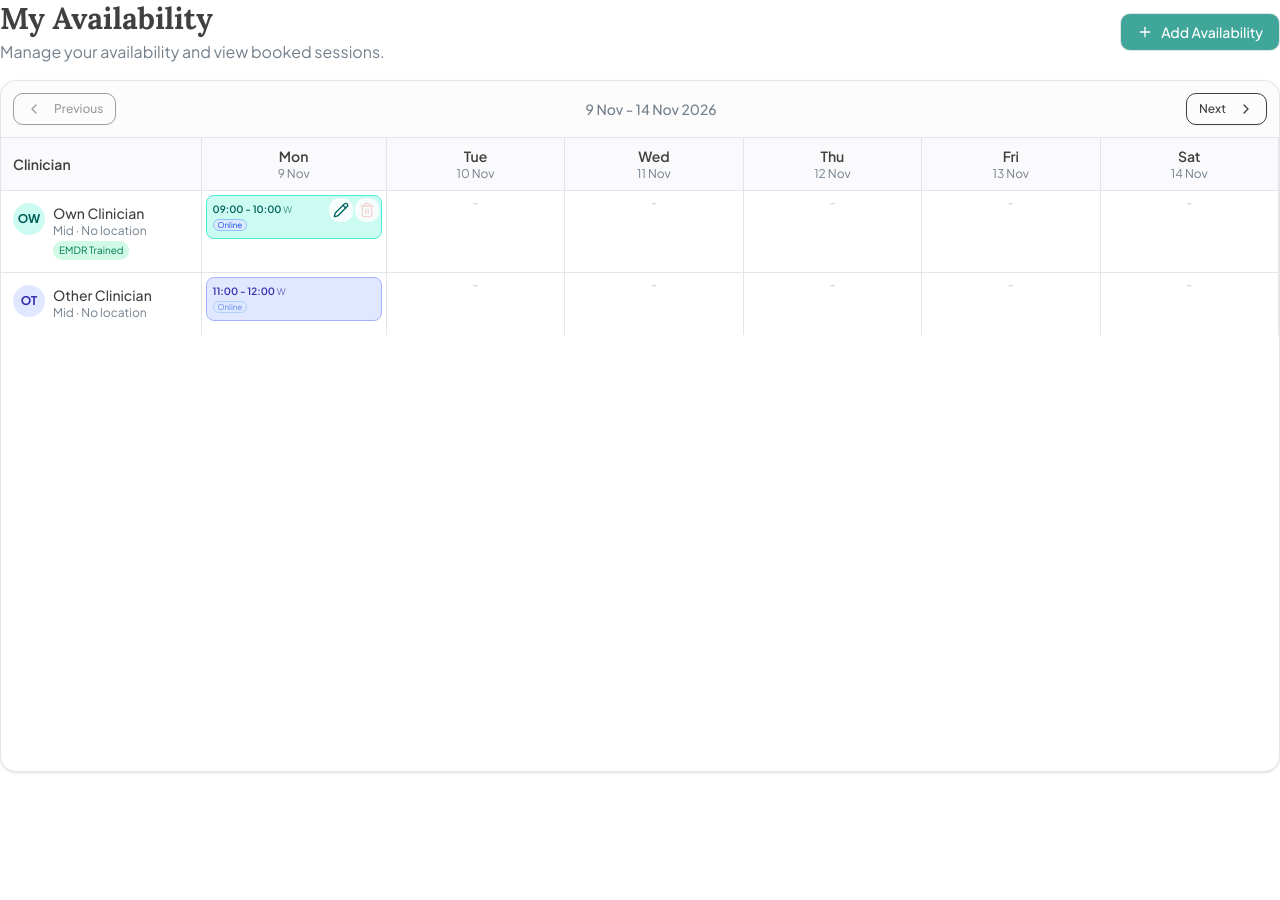
opens editing only for the clinician's own free series
Click the button with test id "button-edit-slot-own-slot" at (341, 210), box x1=329 y1=198 x2=353 y2=222
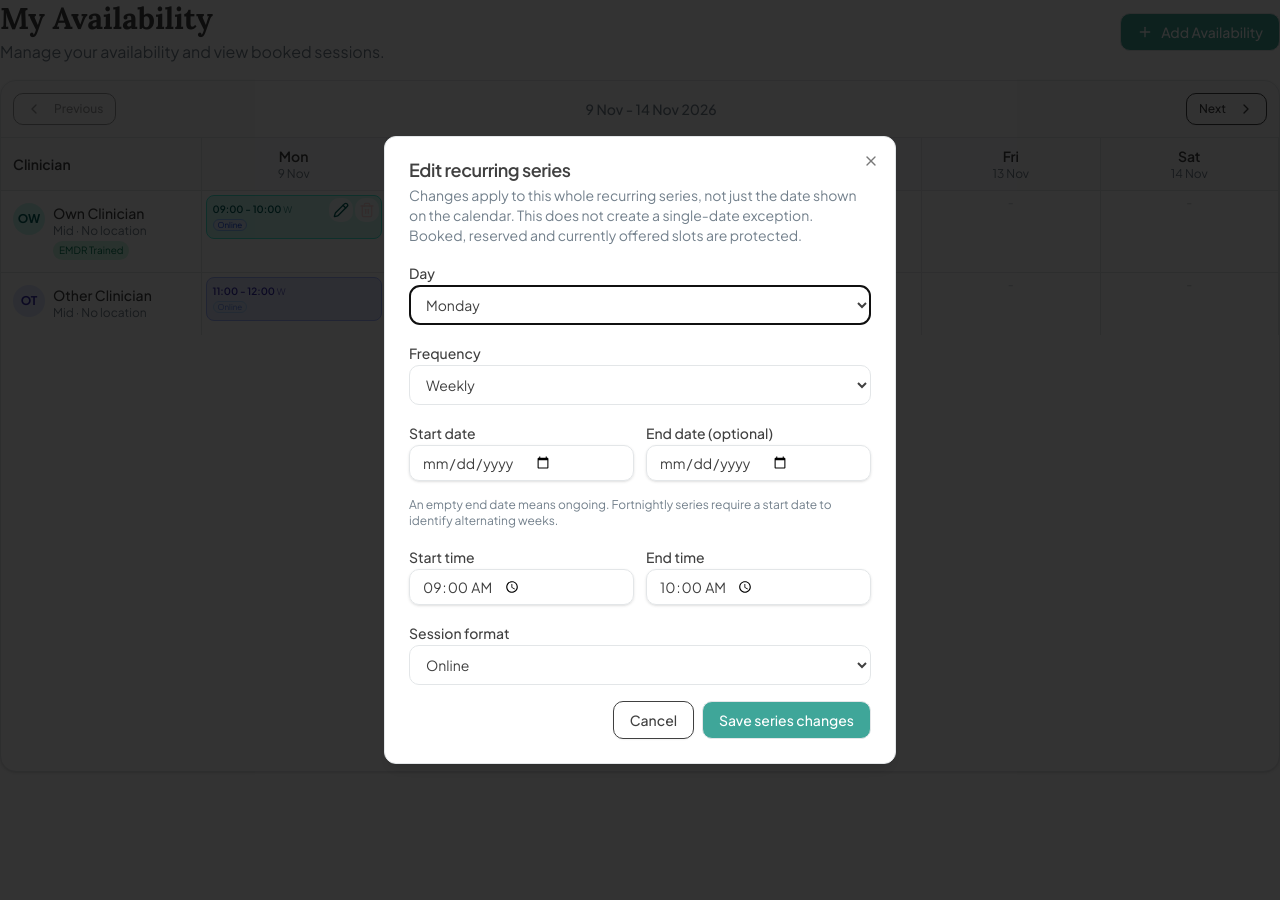
Expected: the heading "Edit recurring series" is shown, x1=409 y1=158 x2=571 y2=181
Expected: the text "whole recurring series, not just the date" is shown, x1=409 y1=186 x2=856 y2=224
